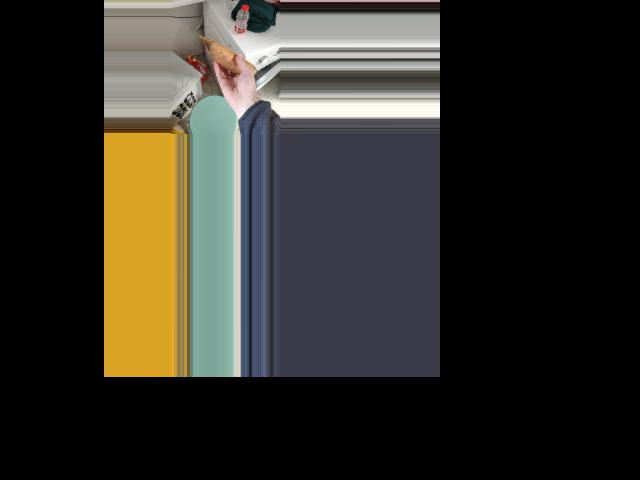sweet_potato: (218, 49, 254, 81)
